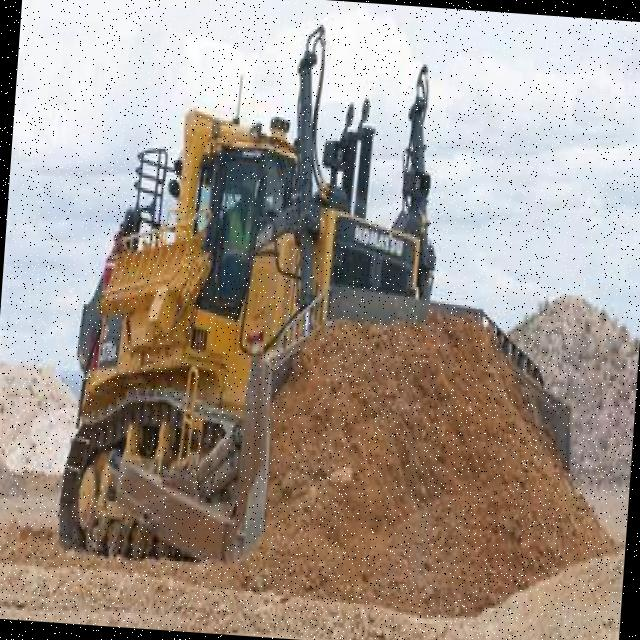Bulldozer: (44, 67, 613, 624)
